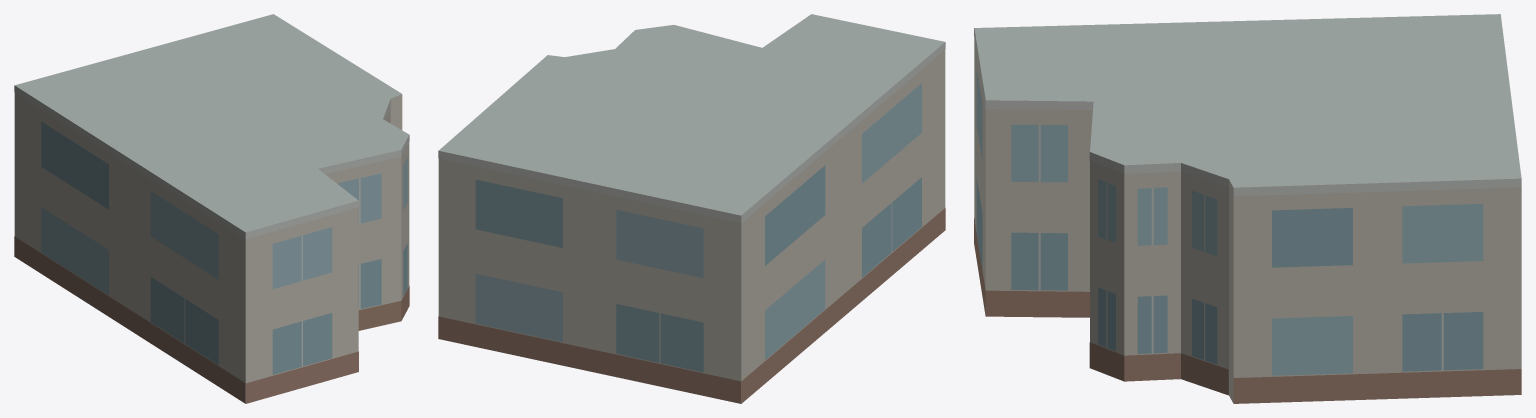
Rendered from survey-upis-32469569.glb.
3 views of the same model, side by side, from view 1: azimuth 30°, elevation 25°; view 2: azimuth 150°, elevation 25°; view 3: azimuth 270°, elevation 25° (orthographic). The views are drawn at different scales.
Parts seen in each view (by area): view 1: survey-upis-32469569.tmp; view 2: survey-upis-32469569.tmp; view 3: survey-upis-32469569.tmp.
Part boxes in pixels (x1,y1,x2,y2): survey-upis-32469569.tmp: (14, 14, 409, 403); survey-upis-32469569.tmp: (438, 14, 945, 403); survey-upis-32469569.tmp: (974, 14, 1521, 403).
Size of the model in its own units: 10.52 by 6.1 by 14.01.
